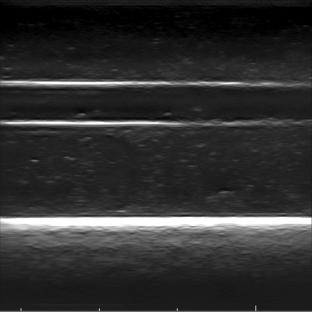vessel: (0, 77, 312, 128)
